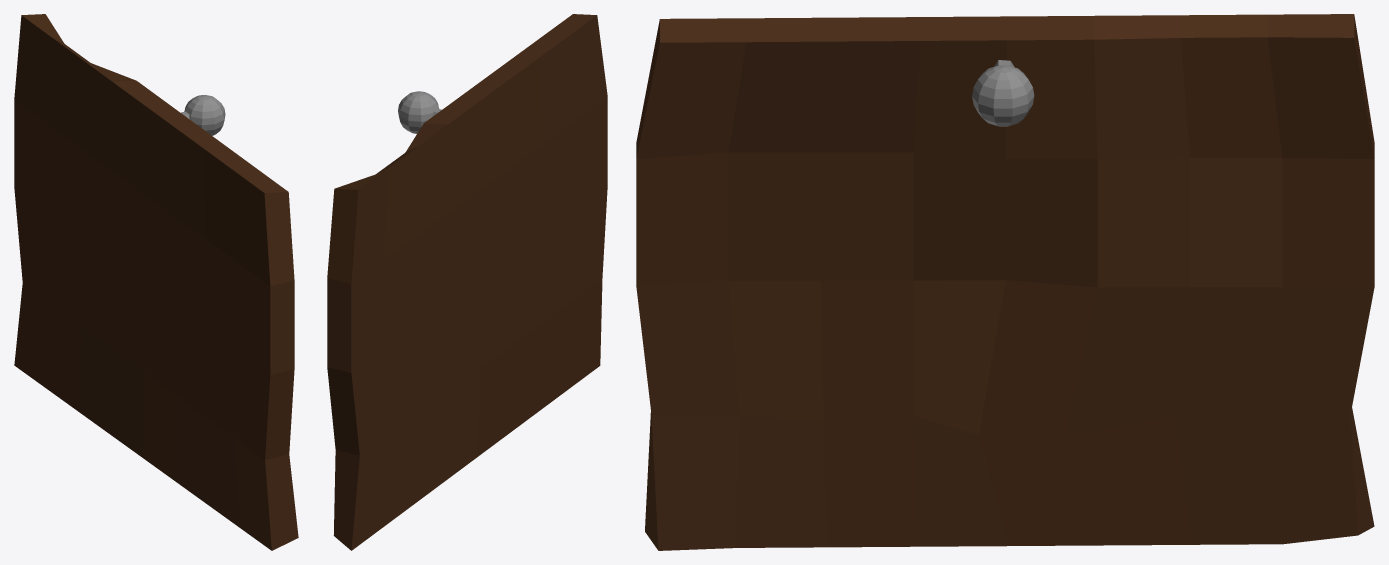
File: GoblinDoor.fbx
The picture shows the model from 3 angles, left to right: view 1: azimuth 30°, elevation 25°; view 2: azimuth 150°, elevation 25°; view 3: azimuth 270°, elevation 25°; orthographic projection. The views are drawn at different scales.
Visible parts, largest first — view 1: Cube.001; view 2: Cube.001; view 3: Cube.001.
Boxes of the visible parts, <box> form: Cube.001: <box>14,14,298,550</box>; Cube.001: <box>327,14,607,550</box>; Cube.001: <box>636,14,1374,550</box>.
Size of the model in its own units: 17.1 by 73.72 by 95.86.
